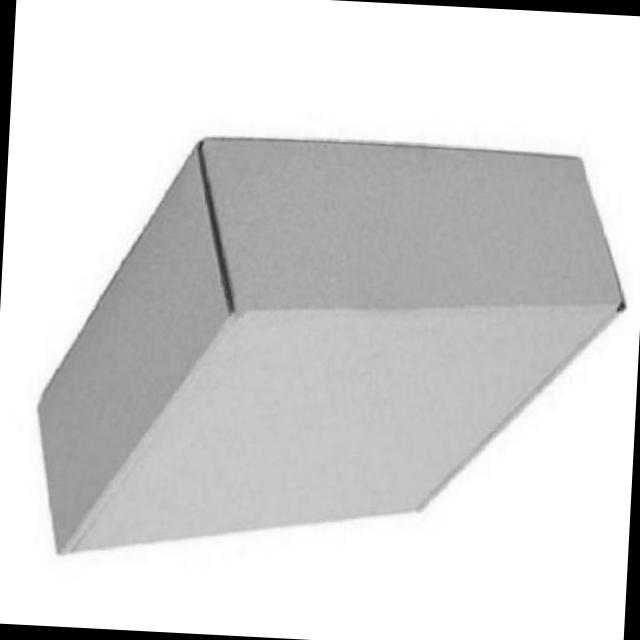box: (25, 114, 640, 584)
